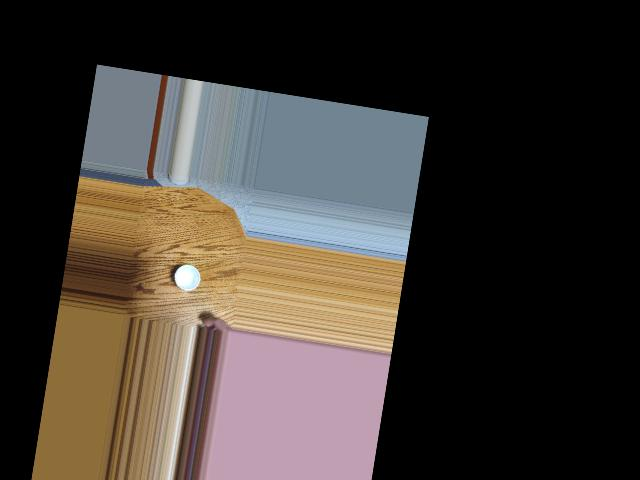cotage: (173, 262, 205, 295)
